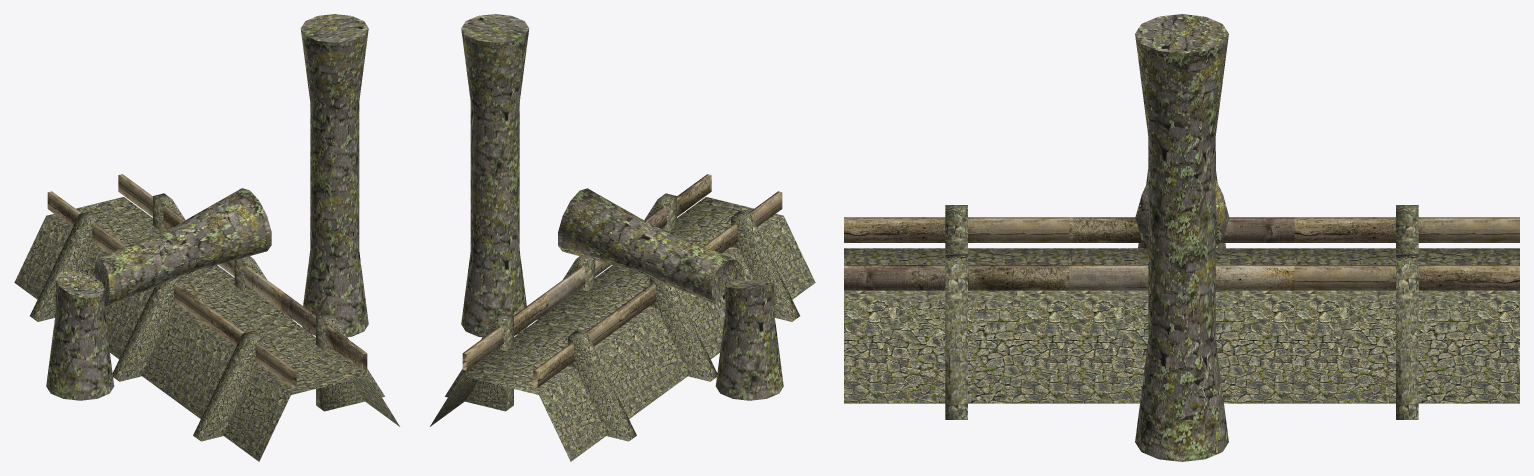
File: I-Tile.Obst.Column.fbx
3 renders of one model, left to right at view 1: azimuth 30°, elevation 25°; view 2: azimuth 150°, elevation 25°; view 3: azimuth 270°, elevation 25°, orthographic. The views are drawn at different scales.
Visible parts, largest first — view 1: I-Tile.Obst.Column; view 2: I-Tile.Obst.Column; view 3: I-Tile.Obst.Column.
Part boxes in pixels (x1,y1,x2,y2): I-Tile.Obst.Column: [14, 14, 399, 461]; I-Tile.Obst.Column: [430, 14, 815, 461]; I-Tile.Obst.Column: [844, 14, 1519, 461].
Bounding box in the file's own units: 222 × 201 × 300.
